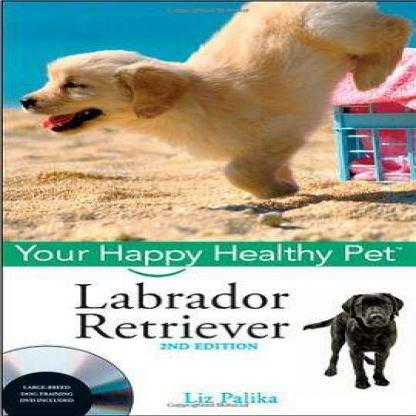Labarador Retriever: (22, 1, 410, 194), (304, 292, 404, 391)
